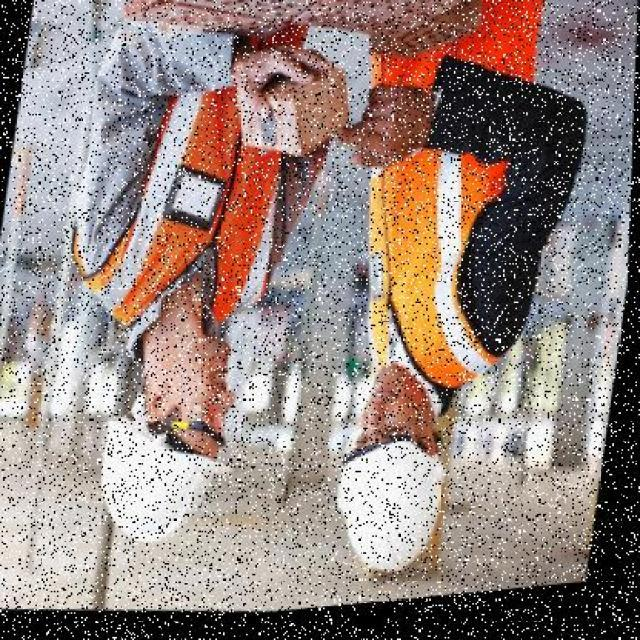helmet: (317, 422, 465, 586), (85, 405, 246, 554)
vest: (336, 0, 549, 406), (69, 0, 309, 354)
